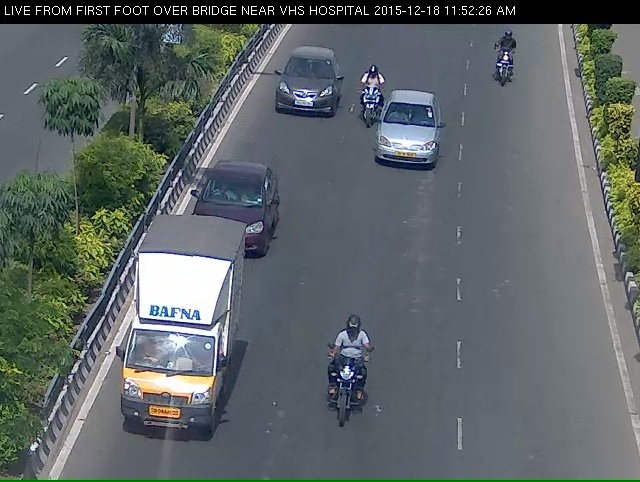Auto: (120, 240, 213, 464)
Car: (179, 173, 270, 263), (268, 56, 340, 131), (381, 104, 445, 184)
Person: (314, 358, 368, 471), (485, 37, 524, 107), (353, 72, 375, 146)
